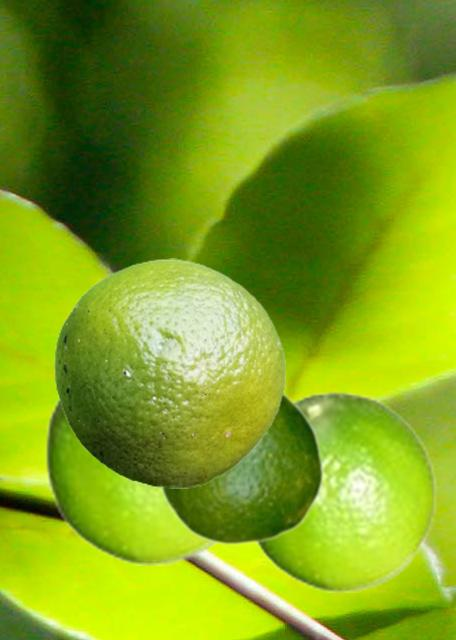calamansi: (54, 258, 284, 487), (253, 390, 437, 591), (44, 391, 221, 564), (157, 392, 324, 545)
